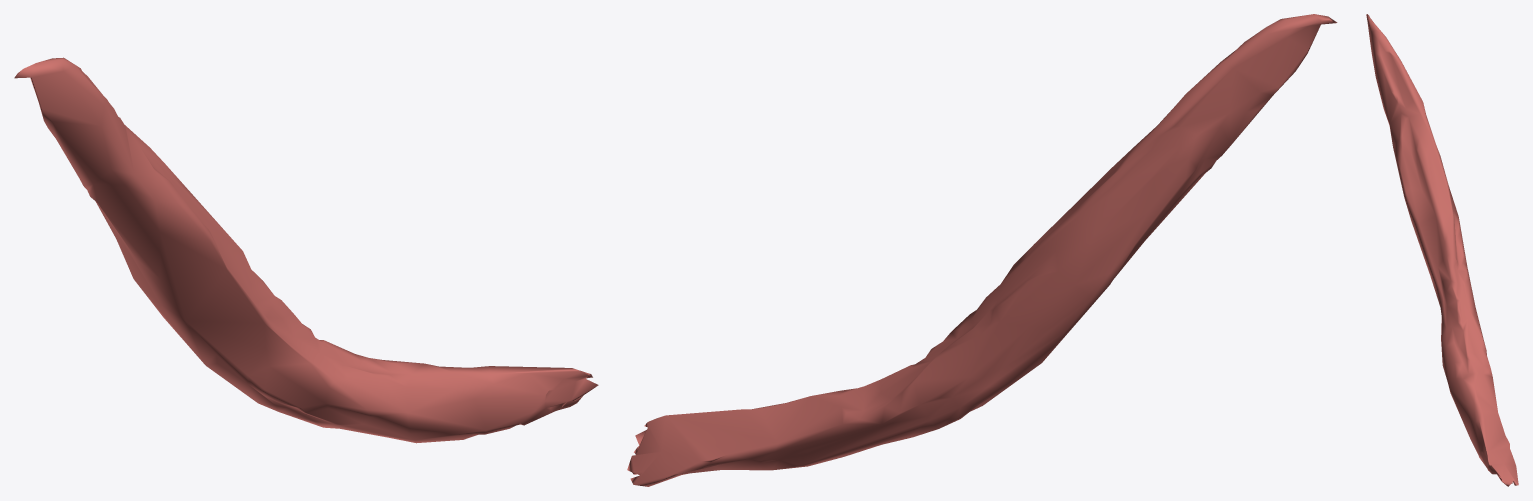
3 views of the same model, side by side, from view 1: azimuth 30°, elevation 25°; view 2: azimuth 150°, elevation 25°; view 3: azimuth 270°, elevation 25° (orthographic). The views are drawn at different scales.
Visible parts, largest first — view 1: 右侧锁骨下肌; view 2: 右侧锁骨下肌; view 3: 右侧锁骨下肌.
Boxes of the visible parts, x1,y1,x2,y2 form: 右侧锁骨下肌: (14,57,598,443); 右侧锁骨下肌: (627,14,1337,486); 右侧锁骨下肌: (1366,14,1518,486).
Bounding box in the file's own units: 0.11 × 0.0907 × 0.0409.
